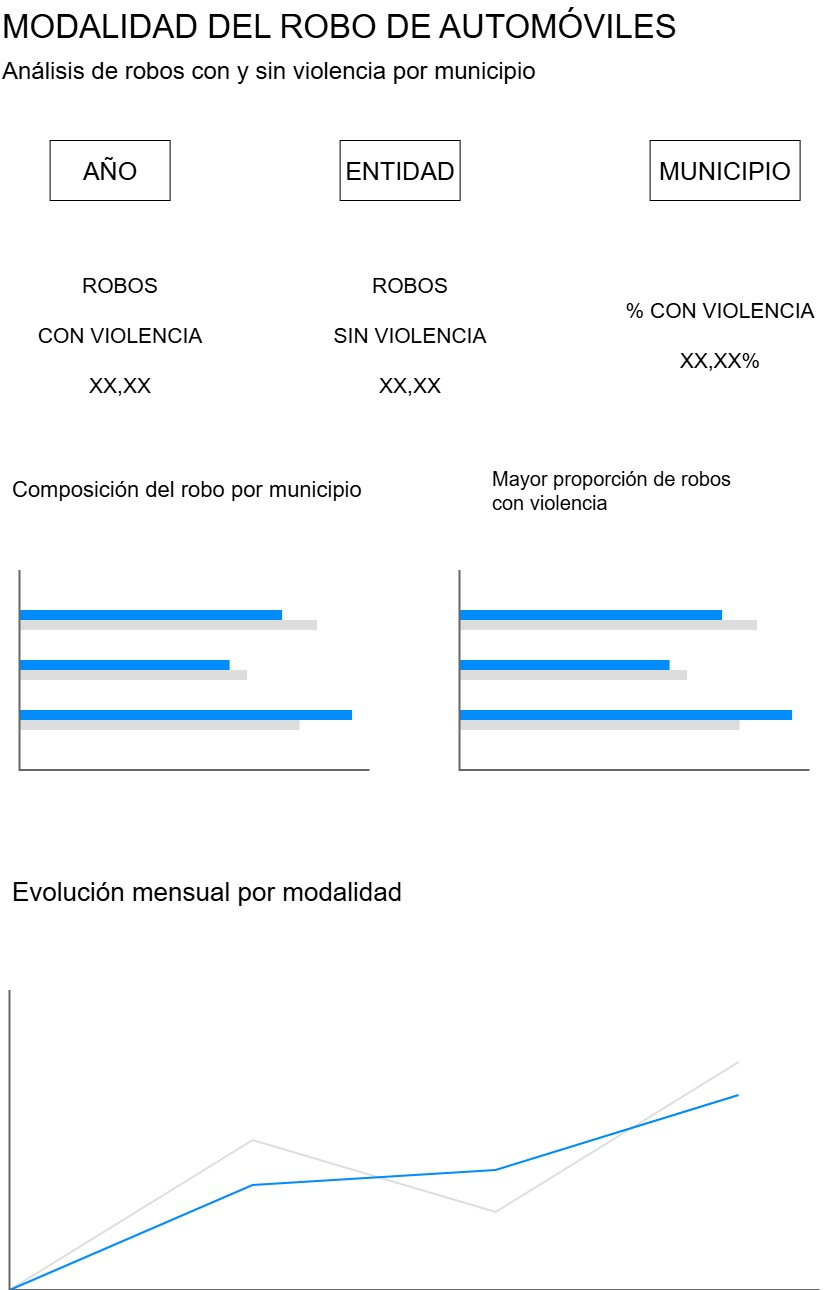

The page's visual inventory and layout, read from the dashboard file:
{"tool":"powerbi","page":{"name":"Modalidad y Violencia","canvas":[1080,1600],"ordinal":2},"visuals":[{"type":"textbox","box":[10,0,804,112],"z":0},{"type":"slicer","fields":{"Values":["DimFecha.Año"]},"box":[46.7,150,280,126.7],"z":1000},{"type":"slicer","fields":{"Values":["DimMunicipio.Entidad"]},"box":[400,150,280,126],"z":2000},{"type":"slicer","fields":{"Values":["DimMunicipio.Municipio"]},"box":[738.3,150,280,126],"z":3000},{"type":"cardVisual","fields":{"Data":["Medidas.Robos Con Violencia"]},"box":[46.7,260,280,126],"z":3001},{"type":"cardVisual","fields":{"Data":["Medidas.Robos Sin Violencia"]},"box":[400,260,280,126],"z":3002},{"type":"cardVisual","fields":{"Data":["Medidas.Porcentaje Con Violencia"]},"box":[738.3,260,280,126],"z":3003},{"type":"hundredPercentStackedBarChart","title":"Composición de robos en municipios con mayor incidencia registrada","fields":{"Category":["DimMunicipio.Municipio Entidad"],"Y":["Medidas.Robos Con Violencia","Medidas.Robos Sin Violencia"]},"box":[48,464,970,412],"z":3004},{"type":"clusteredBarChart","title":"Municipios con mayor proporción de robos con violencia","fields":{"Category":["DimMunicipio.Municipio Entidad"],"Y":["DimFecha.Porcentaje Violencia Ranking"]},"box":[48,886,970,378],"z":3005},{"type":"lineChart","title":"Evolución mensual por modalidad de robo","fields":{"Category":["DimFecha.Date"],"Y":["Medidas.Robos Con Violencia","Medidas.Robos Sin Violencia"]},"box":[48,1294,970,292],"z":3006}]}

Visuals, with their boxes on the page's 1080x1600 design canvas (x1, y1, x2, y2). These are canvas units, not pixel positions in the 830x1290 screenshot, which may show the page scaled, cropped or inside an application window:
textbox: <region>10, 0, 814, 112</region>
slicer - DimFecha.Año: <region>47, 150, 327, 277</region>
slicer - DimMunicipio.Entidad: <region>400, 150, 680, 276</region>
slicer - DimMunicipio.Municipio: <region>738, 150, 1018, 276</region>
cardVisual - Medidas.Robos Con Violencia: <region>47, 260, 327, 386</region>
cardVisual - Medidas.Robos Sin Violencia: <region>400, 260, 680, 386</region>
cardVisual - Medidas.Porcentaje Con Violencia: <region>738, 260, 1018, 386</region>
"Composición de robos en municipios con mayor incidencia registrada" hundredPercentStackedBarChart: <region>48, 464, 1018, 876</region>
"Municipios con mayor proporción de robos con violencia" clusteredBarChart: <region>48, 886, 1018, 1264</region>
"Evolución mensual por modalidad de robo" lineChart: <region>48, 1294, 1018, 1586</region>
